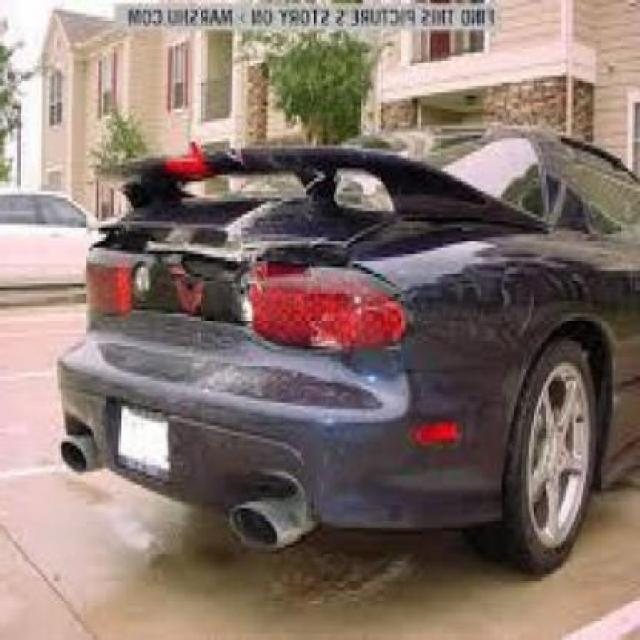damage: (172, 203, 284, 411)
